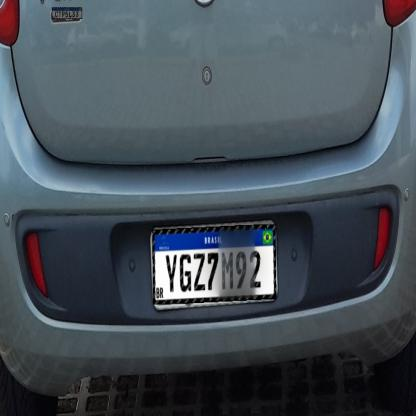PlacaM: (152, 224, 276, 304), (52, 7, 82, 19)
